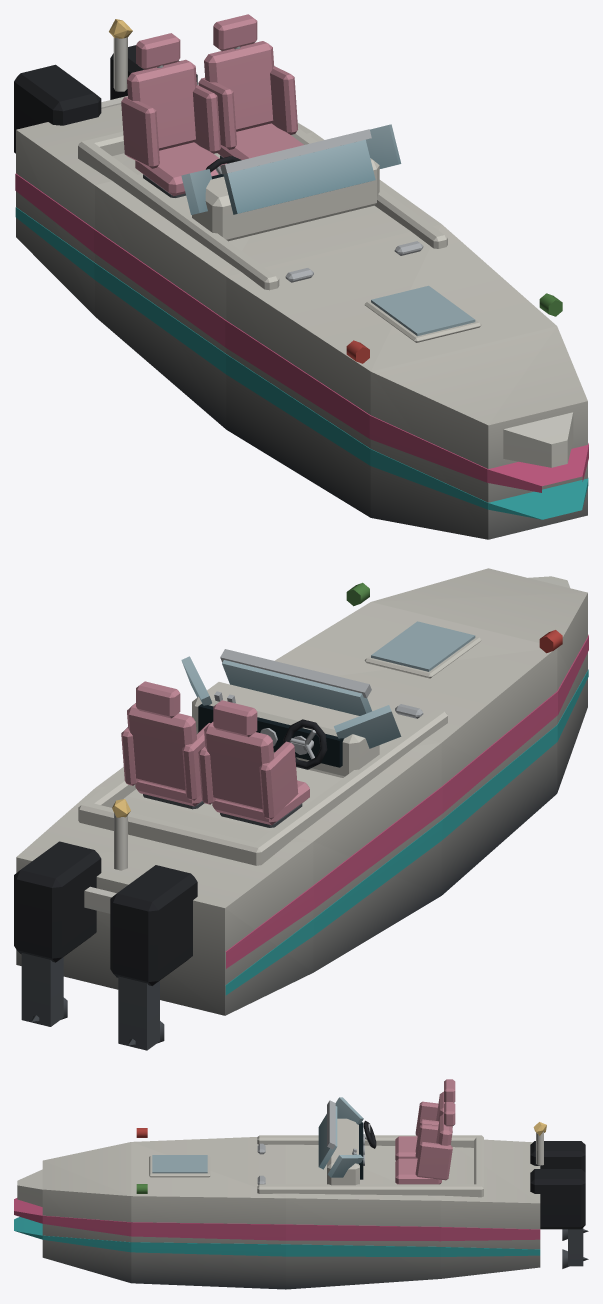
File: cigarette_speedboat.glb
3 renders of one model, top to bottom at view 1: azimuth 30°, elevation 25°; view 2: azimuth 150°, elevation 25°; view 3: azimuth 270°, elevation 25°, orthographic. The views are drawn at different scales.
Parts seen in each view (by area): view 1: cigarette_speedboat; view 2: cigarette_speedboat; view 3: cigarette_speedboat.
Part boxes in pixels (left/top/right/bottom): cigarette_speedboat: left=14, top=14, right=588, bottom=539; cigarette_speedboat: left=14, top=568, right=588, bottom=1050; cigarette_speedboat: left=14, top=1079, right=588, bottom=1289.
Bounding box in the file's own units: 1.76 × 2.08 × 6.66.
